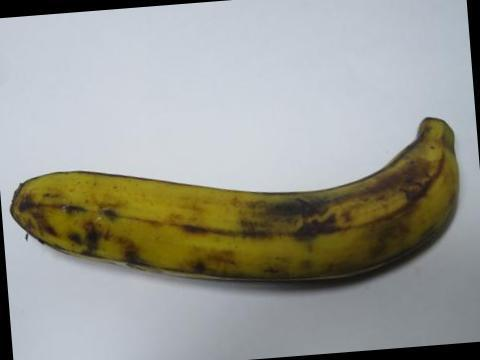overripe: (7, 119, 479, 293)
